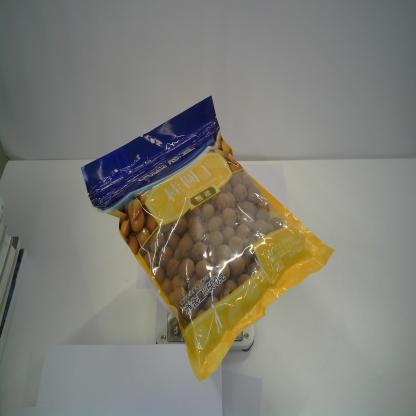Dried Food: (80, 94, 335, 384)
